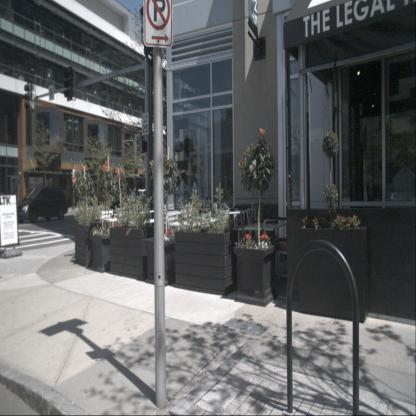vehicle-car: (14, 184, 68, 224)
